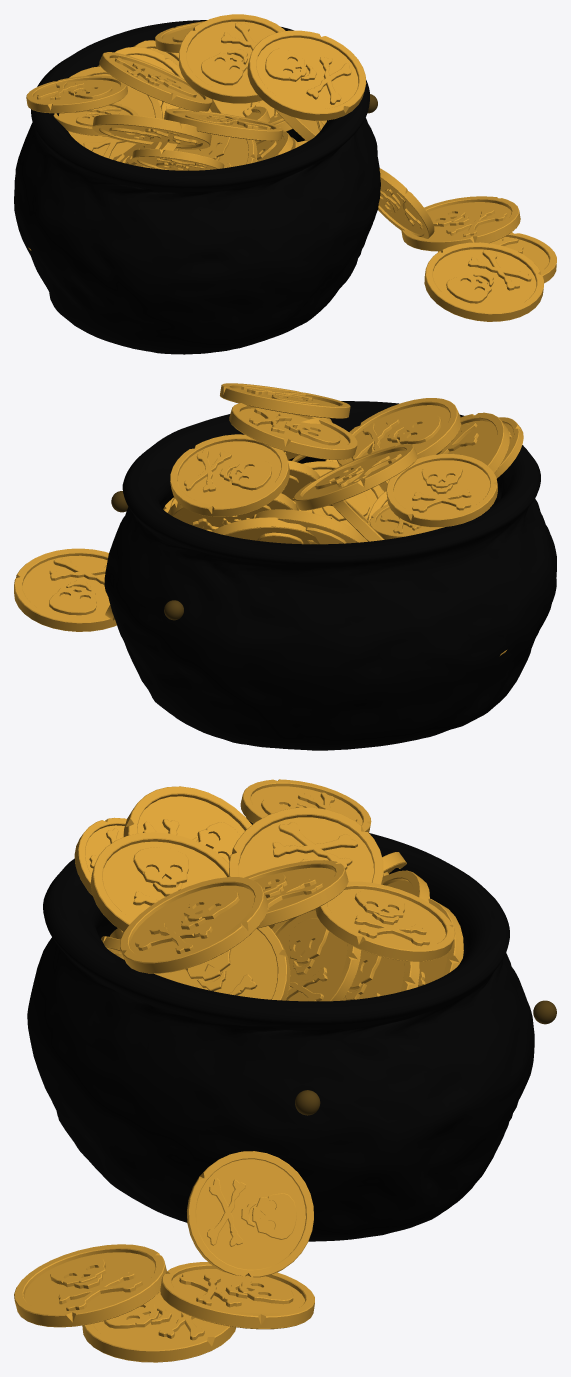
File: asset.glb
3 renders of one model, top to bottom at view 1: azimuth 30°, elevation 25°; view 2: azimuth 150°, elevation 25°; view 3: azimuth 270°, elevation 25°, orthographic. The views are drawn at different scales.
Visible parts, largest first — view 1: purse, Cylinder.063, Cylinder.018, Cylinder.061, Cylinder.016, Cylinder.060, Cylinder.062, Cylinder.059, Cylinder.064, Cylinder.003, Cylinder.052, Cylinder.004 (+9 smaller); view 2: purse, Cylinder.065, Cylinder.016, Cylinder.062, Cylinder.064, Cylinder.061, Cylinder.060, Cylinder.063, Cylinder.059, Cylinder.055, Cylinder.053, Cylinder.054 (+5 smaller); view 3: purse, Cylinder.003, Cylinder.063, Cylinder.018, Cylinder.064, Cylinder.060, Cylinder.065, Cylinder.016, Cylinder.017, Cylinder.059, Cylinder.056, Cylinder.057 (+6 smaller).
Part boxes in pixels (x1,y1,x2,y2): purse: (14,20,380,354); Cylinder.063: (247,30,366,120); Cylinder.018: (424,242,543,321); Cylinder.061: (179,14,285,103); Cylinder.016: (401,196,520,251); Cylinder.060: (99,52,212,111); Cylinder.062: (26,75,127,113); Cylinder.059: (92,114,211,149); Cylinder.064: (164,108,283,141); Cylinder.003: (378,168,434,238); Cylinder.052: (68,66,163,159); Cylinder.004: (132,148,224,170); purse: (104,401,556,750); Cylinder.065: (170,434,289,516); Cylinder.016: (14,548,116,631); Cylinder.062: (386,454,497,527); Cylinder.064: (337,398,461,466); Cylinder.061: (229,403,357,459); Cylinder.060: (294,444,417,510); Cylinder.063: (220,383,350,418); Cylinder.059: (436,412,509,472); Cylinder.055: (211,517,325,544); Cylinder.053: (251,509,367,544); Cylinder.054: (168,493,297,531); purse: (27,817,534,1241); Cylinder.003: (187,1151,313,1277); Cylinder.063: (120,877,268,973); Cylinder.018: (14,1244,166,1327); Cylinder.064: (90,832,228,931); Cylinder.060: (229,807,383,928); Cylinder.065: (315,881,455,961); Cylinder.016: (160,1262,314,1329); Cylinder.017: (82,1291,236,1362); Cylinder.059: (123,786,251,862); Cylinder.056: (272,909,361,1001); Cylinder.057: (154,926,290,1000).
Bounding box in the file's own units: 3.11 × 1.58 × 2.37.
